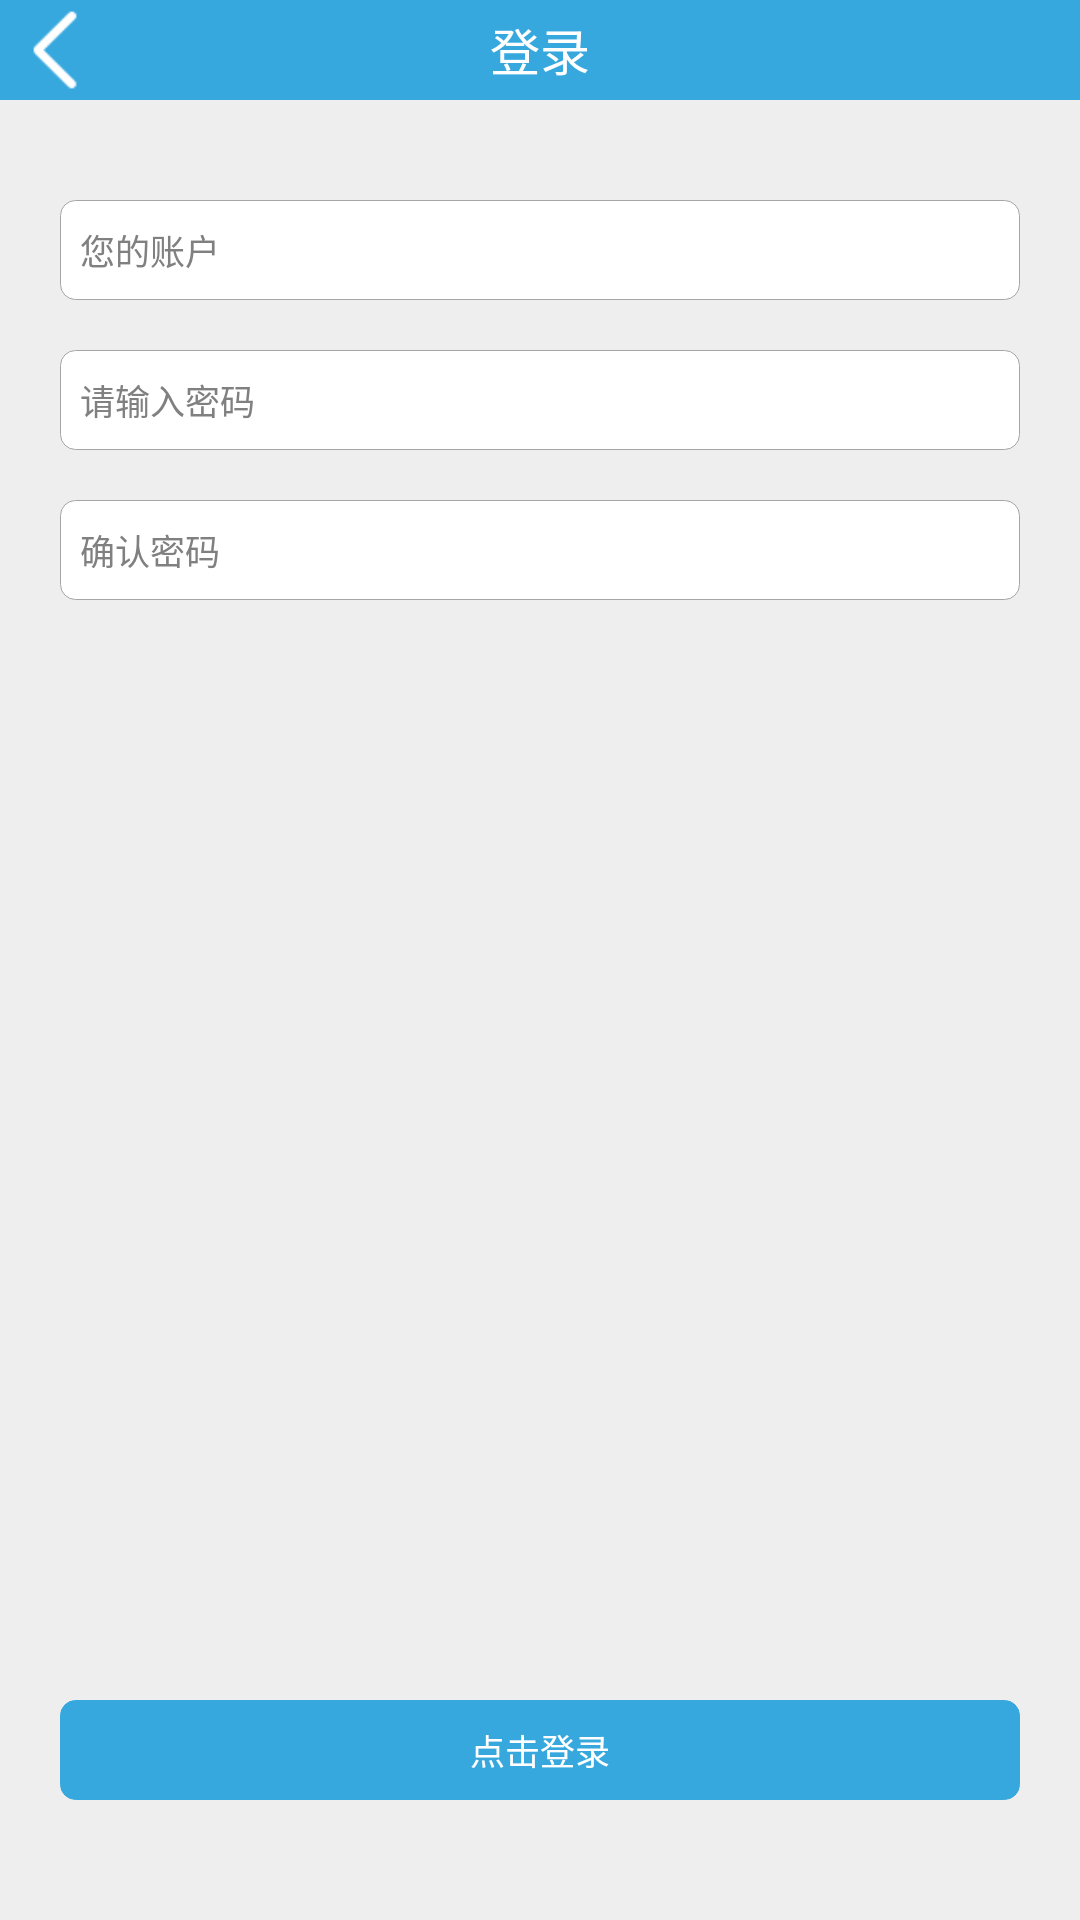

Where icons sit on this 1080w x 1920h app screen, as (x1, y1, x2, y2):
leftarrowicon: (33, 11, 77, 89)
